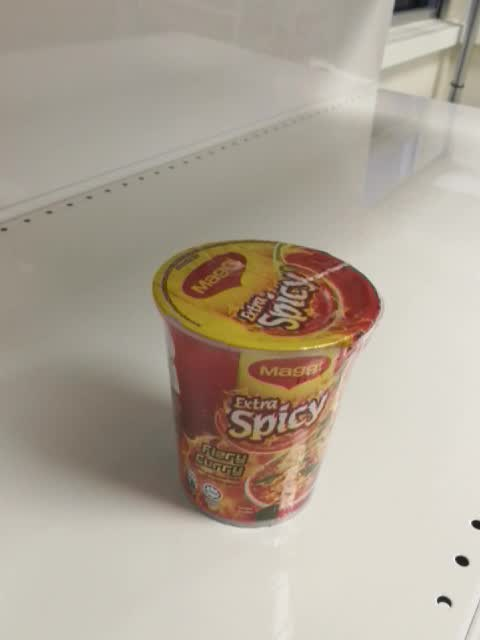maggi: (150, 239, 383, 531)
